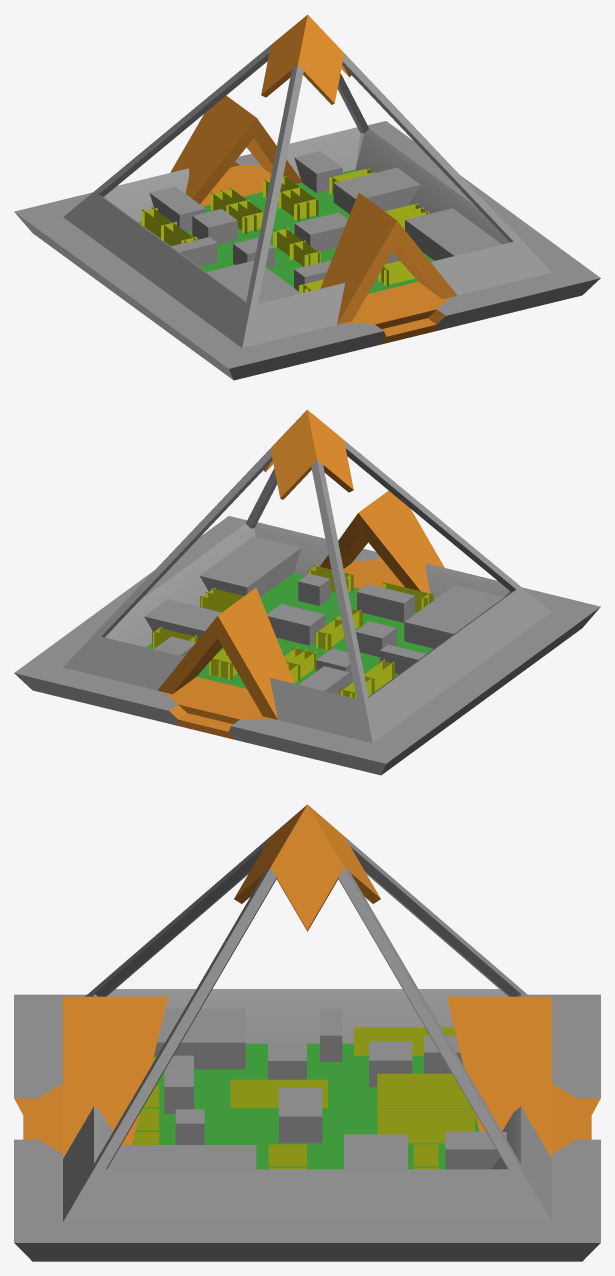
Rendered from green_house_low.FBX.
The picture shows the model from 3 angles, top to bottom: view 1: azimuth 30°, elevation 25°; view 2: azimuth 150°, elevation 25°; view 3: azimuth 270°, elevation 25°; orthographic projection. The views are drawn at different scales.
Visible parts, largest first — view 1: green_house_low; view 2: green_house_low; view 3: green_house_low.
Part boxes in pixels (x1,y1,x2,y2): green_house_low: [14, 14, 600, 380]; green_house_low: [14, 409, 600, 775]; green_house_low: [14, 804, 600, 1261].
Bounding box in the file's own units: 12000 × 7698 × 12000.
